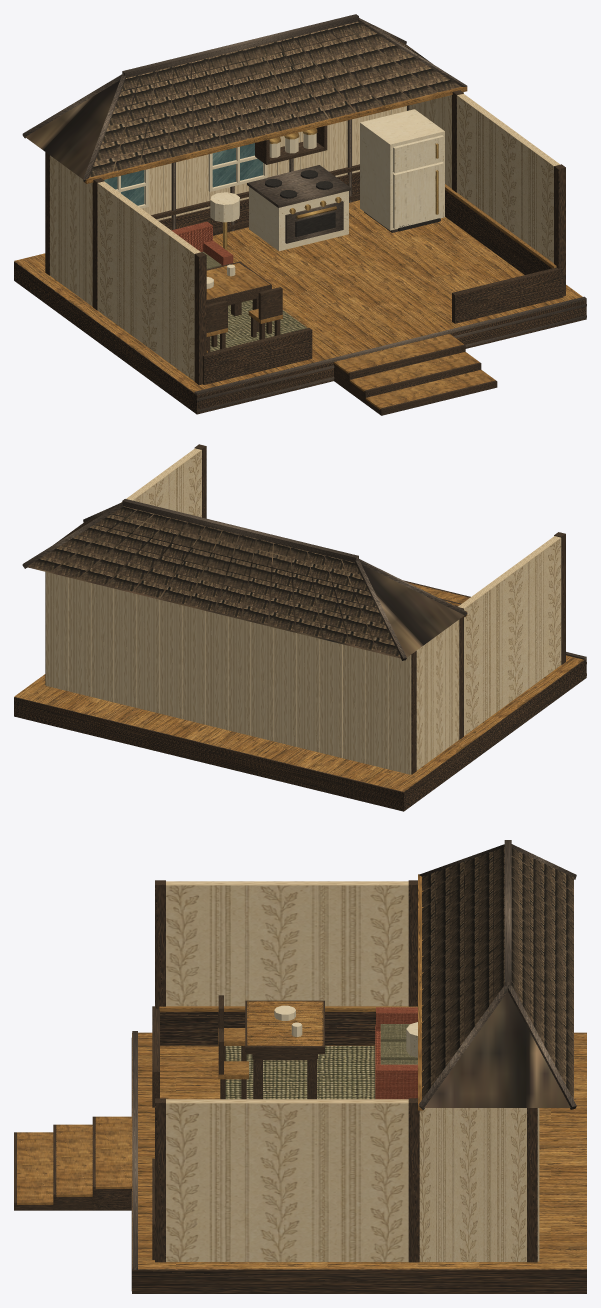
File: north-display-home.glb
3 views of the same model, one above another, from view 1: azimuth 30°, elevation 25°; view 2: azimuth 150°, elevation 25°; view 3: azimuth 270°, elevation 25° (orthographic). The views are drawn at different scales.
Parts seen in each view (by area): view 1: north-display-home; view 2: north-display-home; view 3: north-display-home.
Part boxes in pixels (x1=…): north-display-home: x1=14, y1=14, x2=586, y2=415; north-display-home: x1=14, y1=444, x2=586, y2=811; north-display-home: x1=14, y1=840, x2=586, y2=1293.
Size of the model in its own units: 12.8 by 6.67 by 13.1.
Materials: 1 (1 with a texture image).
